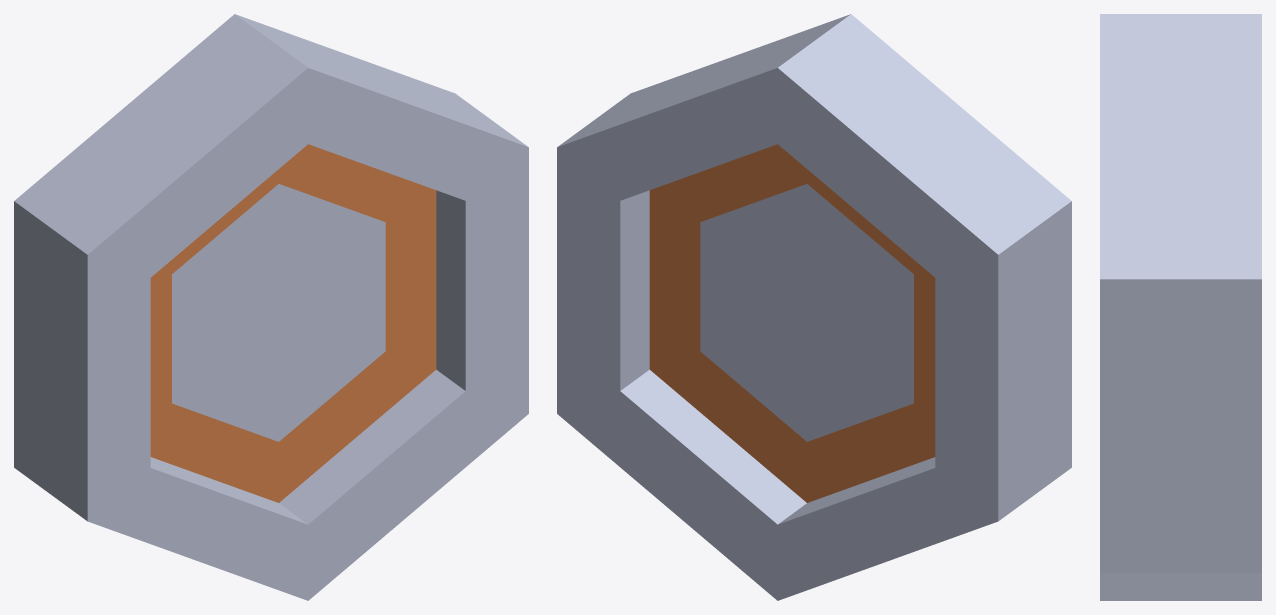
The model's file is coinSilver.obj.
3 views of the same model, side by side, from view 1: azimuth 30°, elevation 25°; view 2: azimuth 150°, elevation 25°; view 3: azimuth 270°, elevation 25° (orthographic). The views are drawn at different scales.
Visible parts, largest first — view 1: coinSilver; view 2: coinSilver; view 3: coinSilver.
Boxes of the visible parts, <box> form: coinSilver: <box>14,14,528,600</box>; coinSilver: <box>557,14,1071,600</box>; coinSilver: <box>1100,14,1261,600</box>.
Size of the model in its own units: 0.3464 by 0.4 by 0.1.
